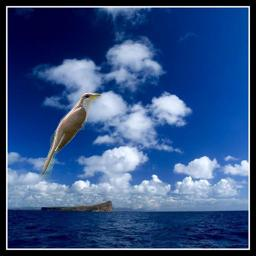Cuckoo: (39, 92, 101, 178)
